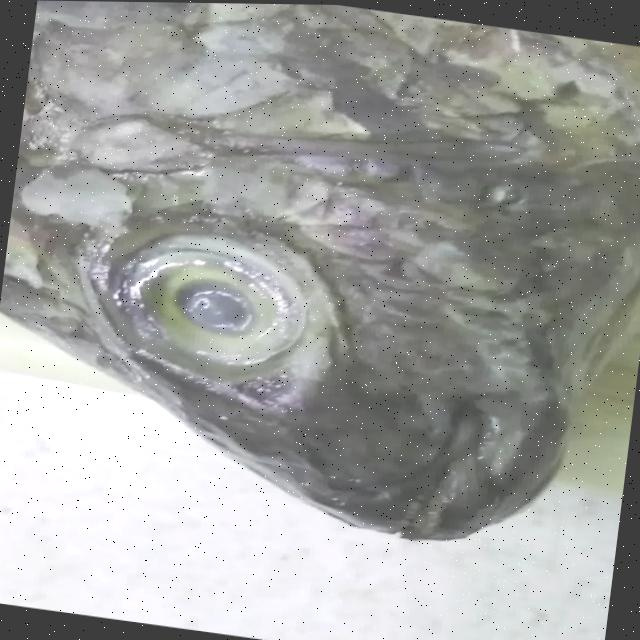Non-Fresh: (71, 190, 347, 399)
